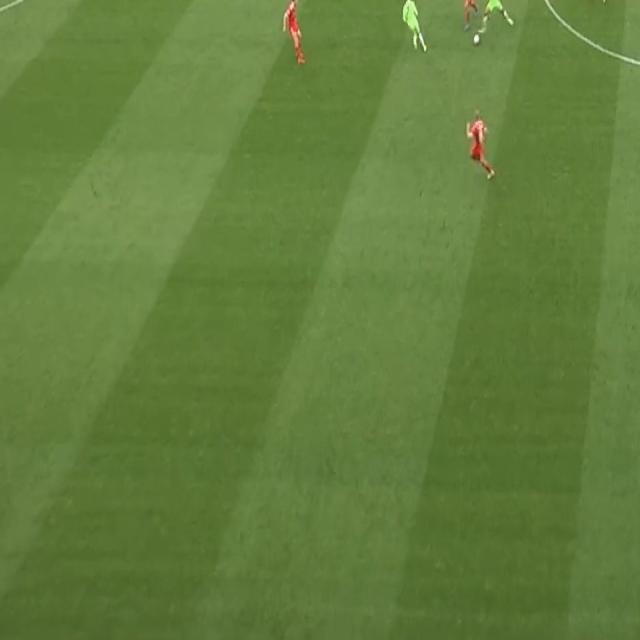ball: (473, 32, 480, 46)
